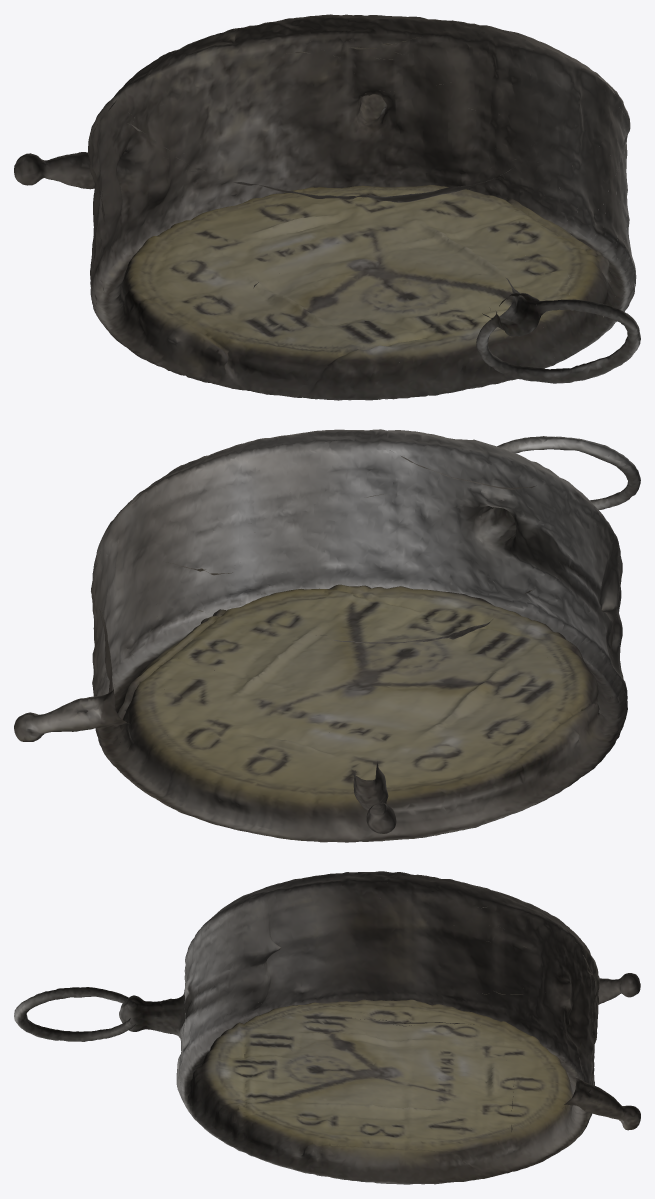
Rendered from alarm.glb.
3 renders of one model, top to bottom at view 1: azimuth 30°, elevation 25°; view 2: azimuth 150°, elevation 25°; view 3: azimuth 270°, elevation 25°, orthographic. The views are drawn at different scales.
Size of the model in its own units: 0.6777 by 0.2974 by 1.
